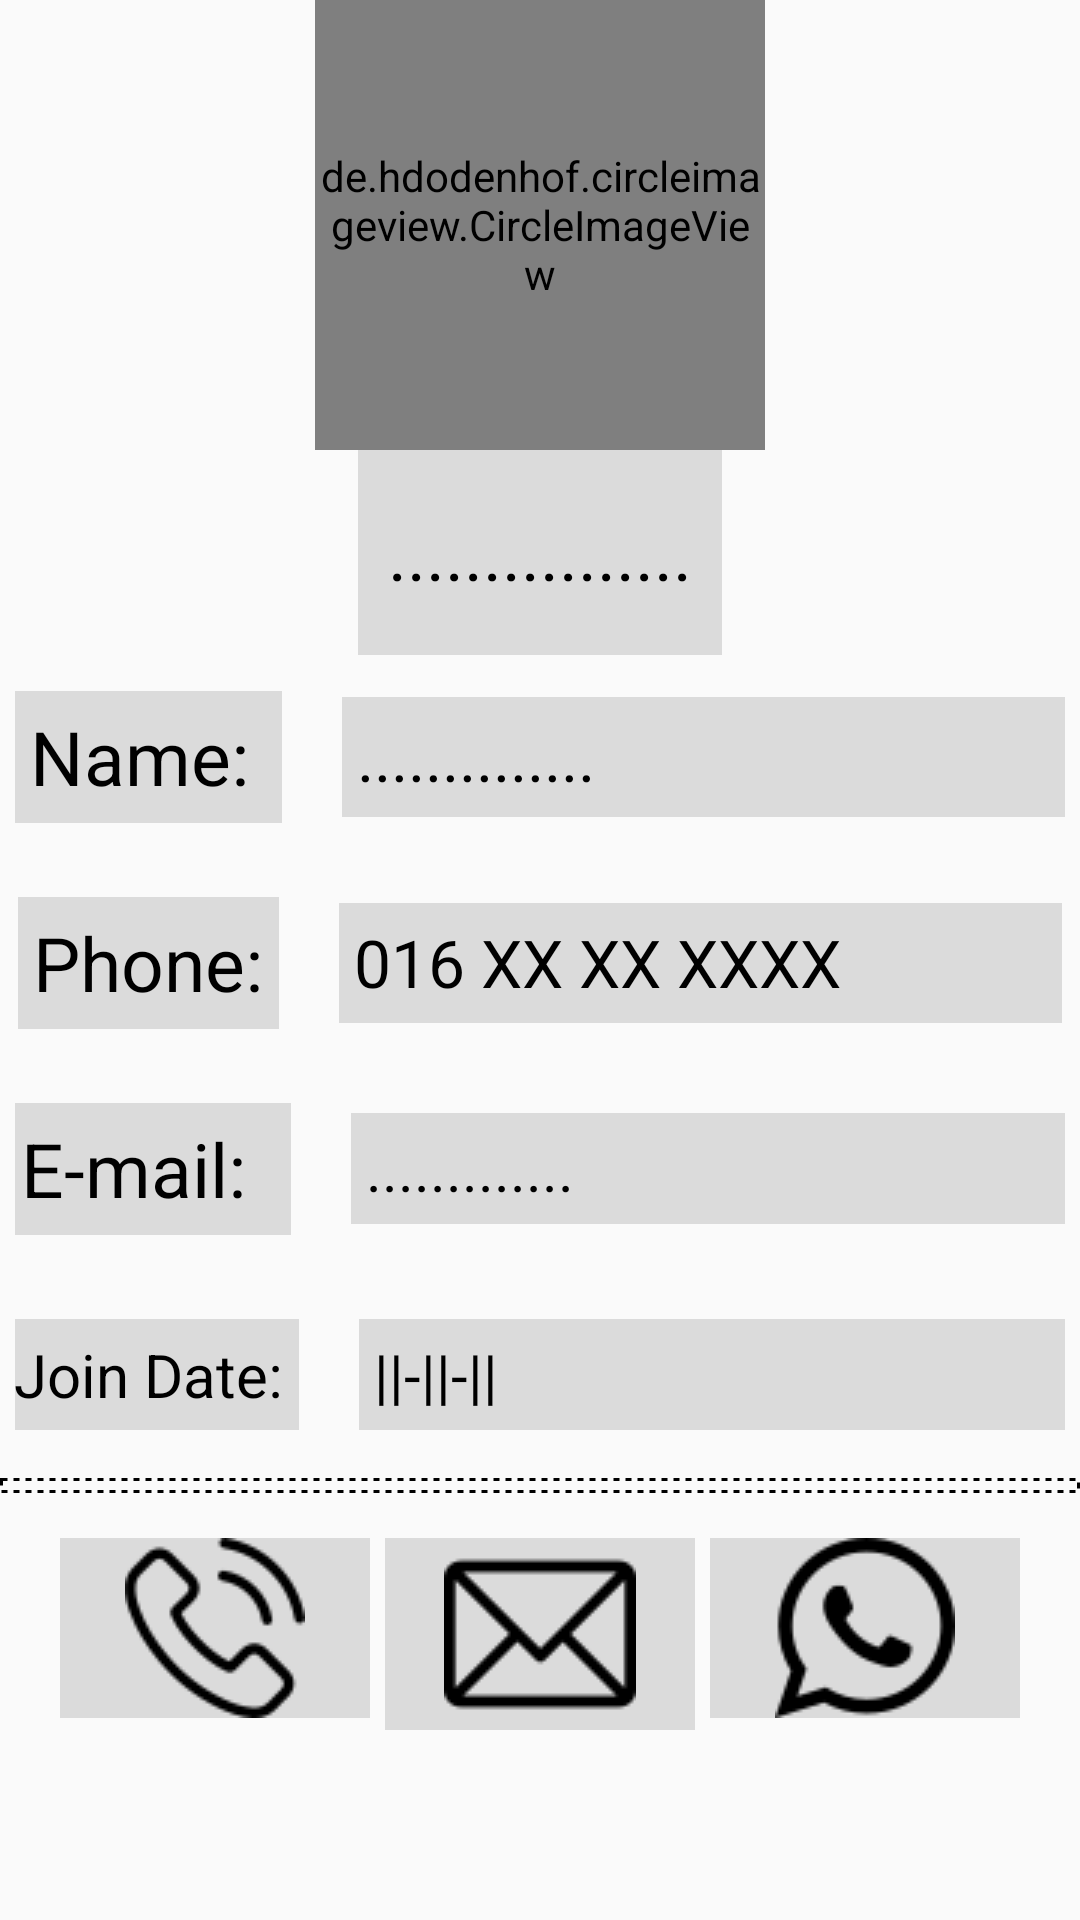

Icon bounding boxes for this 1080*1920 phone screenshot, format (x1, y1, x2, y2):
email: (385, 1538, 695, 1730)
phone call: (60, 1538, 370, 1718)
